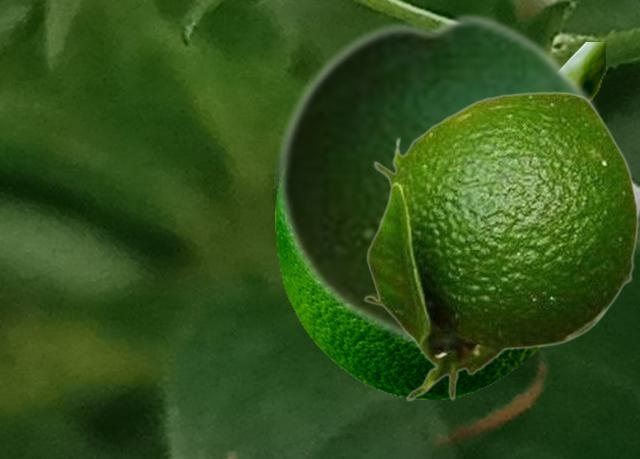dalandan: (275, 42, 604, 398), (274, 9, 608, 351), (362, 91, 638, 401)
